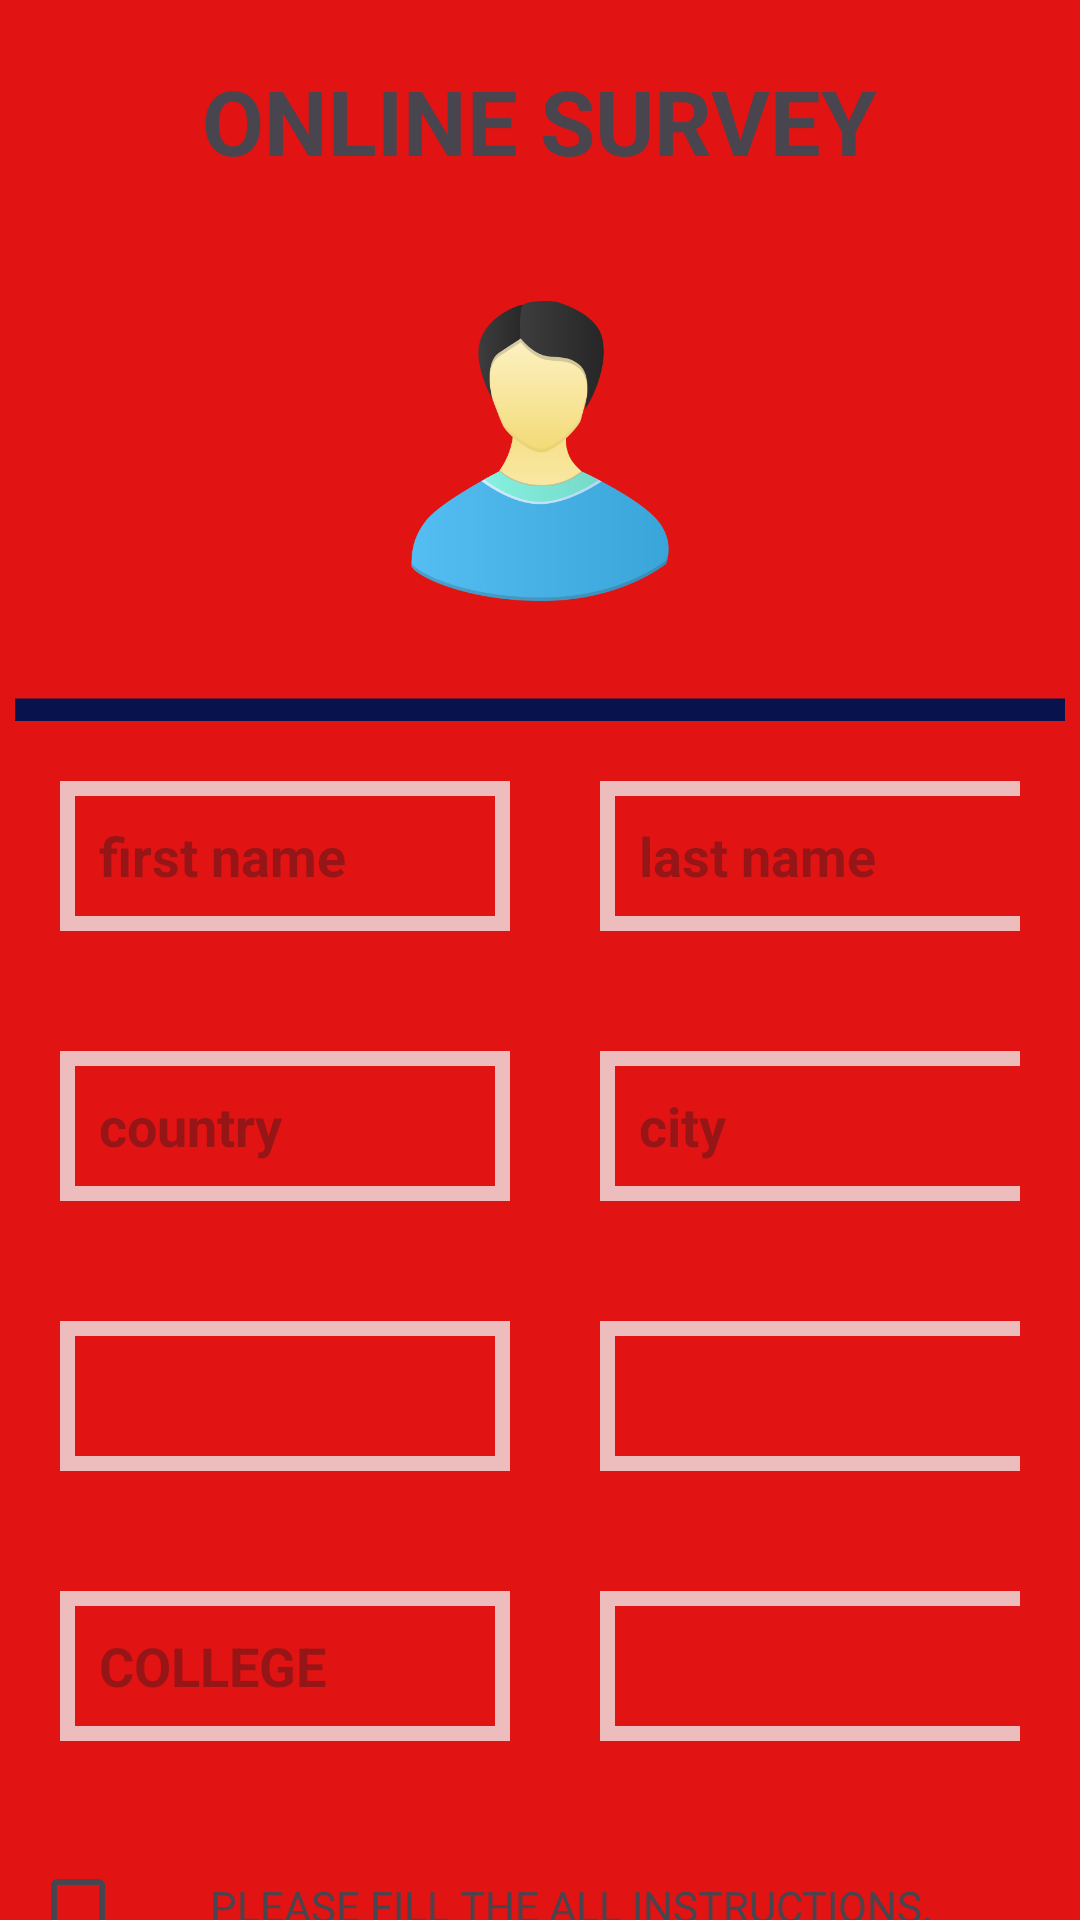

Icons on this 1080 × 1920 Android screen, each with the point to tap as [x,y]:
userrrr: [540,451]
